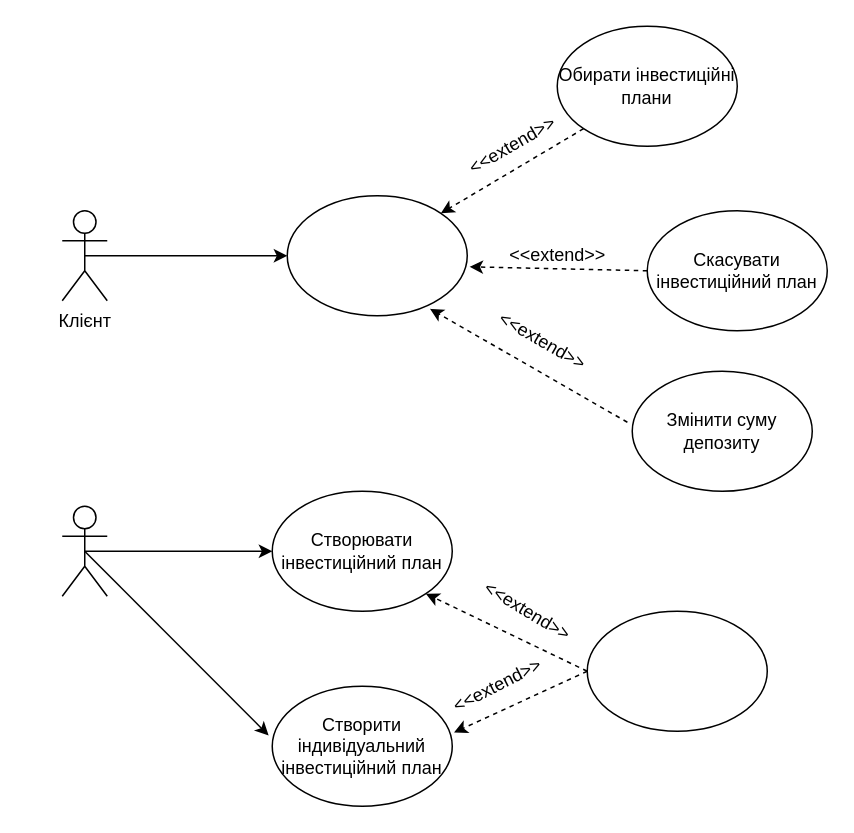
The diagram is 854 pixels wide and 833 high, and some of its shapes have lost their labels. Here are the shapes that lost their labels. From the top down, the centre of each, then its label:
At point 376,255: "Керувати інвестиційним планом".
At point 84,550: "Адміністратор".
At point 676,670: "Змінювати інвестиційні плани".
